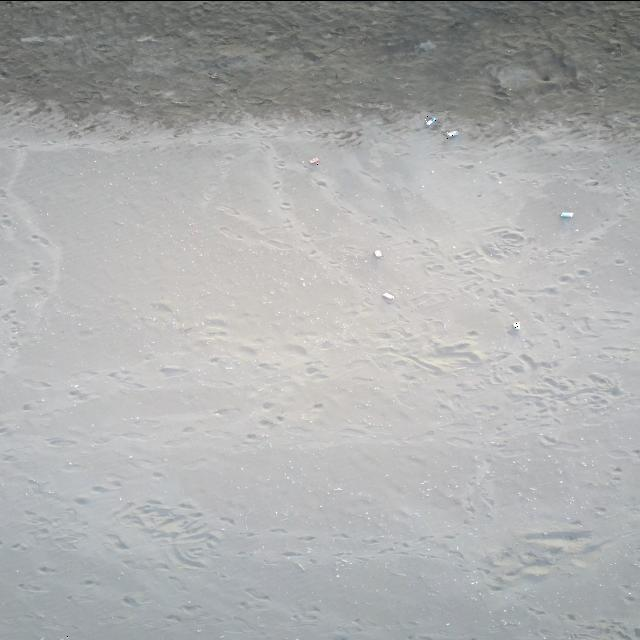Garbage: (424, 115, 436, 127), (444, 129, 459, 138), (373, 248, 382, 258), (207, 71, 217, 80), (308, 156, 319, 163), (383, 292, 393, 299), (512, 320, 519, 329), (560, 211, 572, 216)
